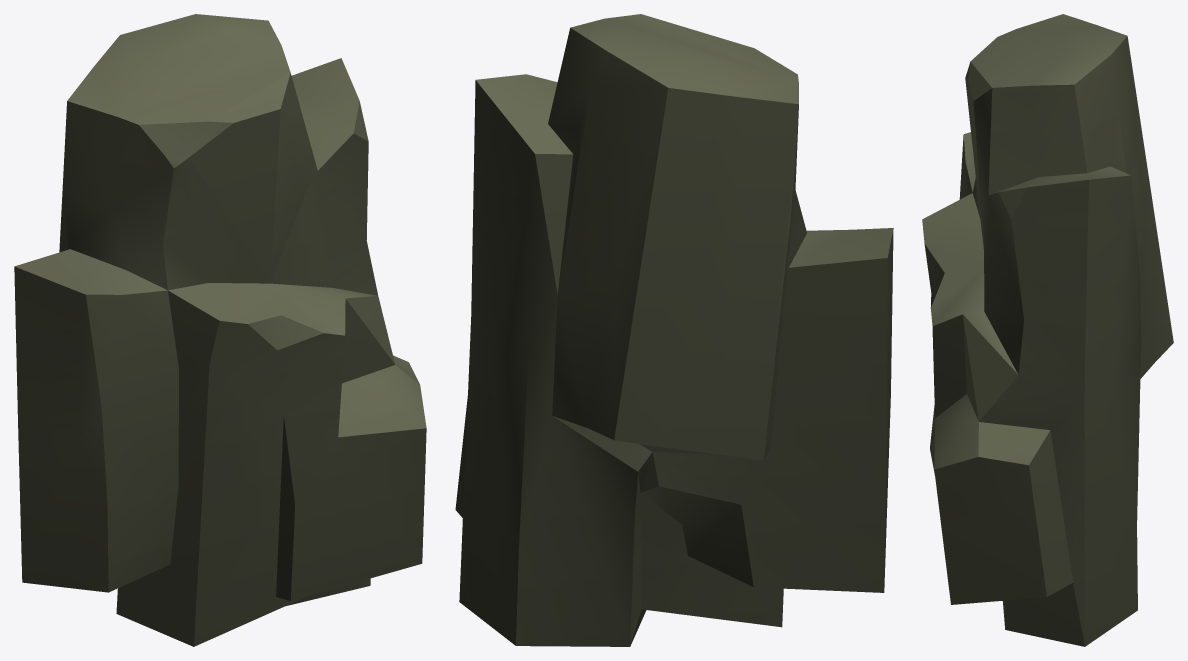
File: RockFace5.fbx
3 views of the same model, side by side, from view 1: azimuth 30°, elevation 25°; view 2: azimuth 150°, elevation 25°; view 3: azimuth 270°, elevation 25° (orthographic). The views are drawn at different scales.
Visible parts, largest first — view 1: Cylinder.002; view 2: Cylinder.002; view 3: Cylinder.002.
Boxes of the visible parts, x1,y1,x2,y2 form: Cylinder.002: (14, 14, 426, 646); Cylinder.002: (455, 14, 893, 646); Cylinder.002: (922, 14, 1173, 646).
Bounding box in the file's own units: 679 × 920 × 400.
